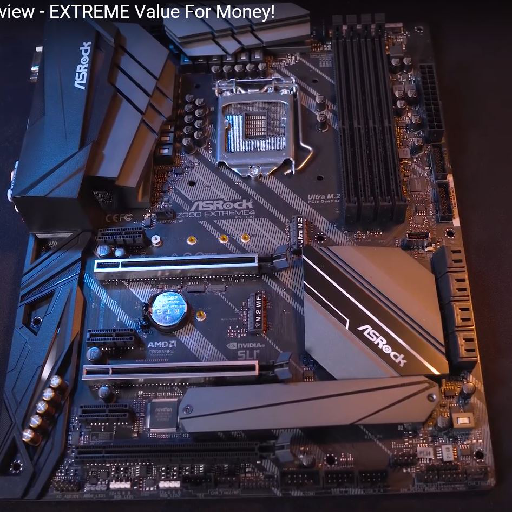CPU: (214, 75, 296, 176)
GPU: (95, 243, 289, 283), (82, 352, 292, 382)
MOTHERBOARD: (7, 9, 497, 499)
RAM: (332, 12, 407, 225)
SSD: (245, 291, 268, 335), (288, 214, 310, 253)
